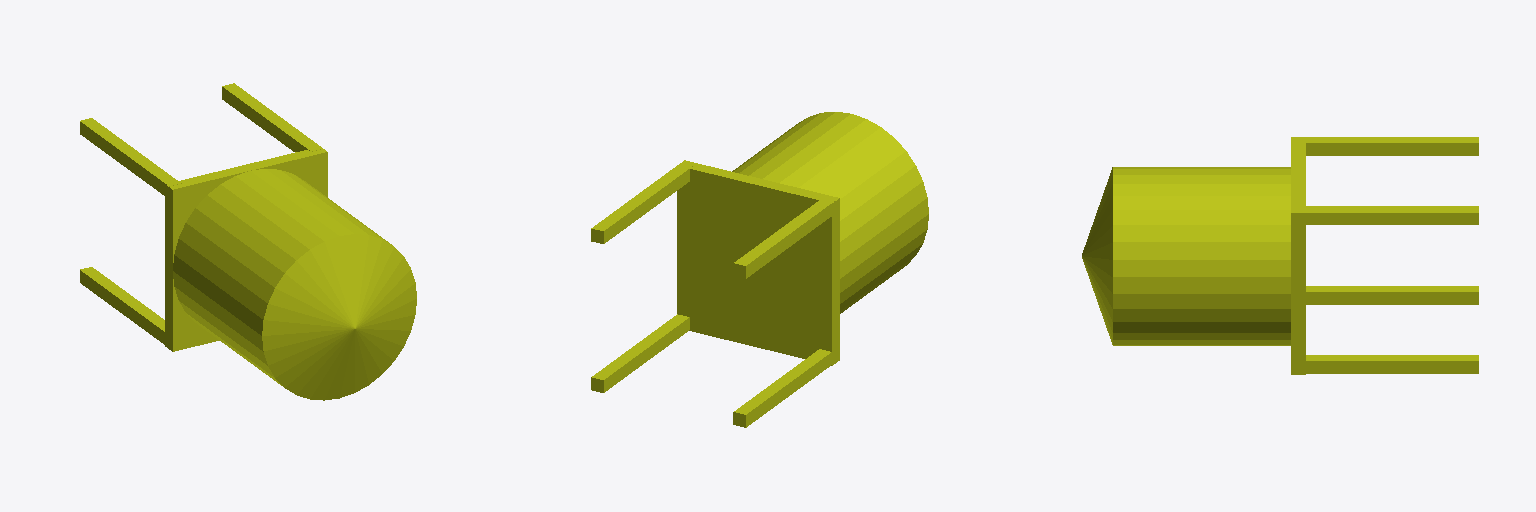
The model's file is depositoAmarillo.obj.
3 views of the same model, side by side, from view 1: azimuth 30°, elevation 25°; view 2: azimuth 150°, elevation 25°; view 3: azimuth 270°, elevation 25° (orthographic).
Parts seen in each view (by area): view 1: Cylinder, Cube, Cube.004, Cube.003, Cube.001; view 2: Cube, Cylinder, Cube.004, Cube.003, Cube.002, Cube.001; view 3: Cylinder, Cube, Cube.003, Cube.004, Cube.002, Cube.001.
Part boxes in pixels (bbox=[...]): Cylinder: bbox=[173, 169, 416, 400]; Cube: bbox=[165, 149, 327, 351]; Cube.004: bbox=[80, 118, 181, 195]; Cube.003: bbox=[222, 83, 322, 151]; Cube.001: bbox=[80, 267, 164, 344]; Cube: bbox=[677, 160, 839, 365]; Cylinder: bbox=[732, 112, 928, 313]; Cube.004: bbox=[733, 198, 834, 278]; Cube.003: bbox=[591, 163, 692, 243]; Cube.002: bbox=[591, 314, 689, 392]; Cube.001: bbox=[733, 349, 831, 427]; Cylinder: bbox=[1082, 167, 1290, 345]; Cube: bbox=[1291, 137, 1305, 374]; Cube.003: bbox=[1299, 206, 1478, 224]; Cube.004: bbox=[1299, 137, 1478, 155]; Cube.002: bbox=[1306, 355, 1478, 373]; Cube.001: bbox=[1306, 286, 1478, 304].
Size of the model in its own units: 2 by 2 by 4.43.